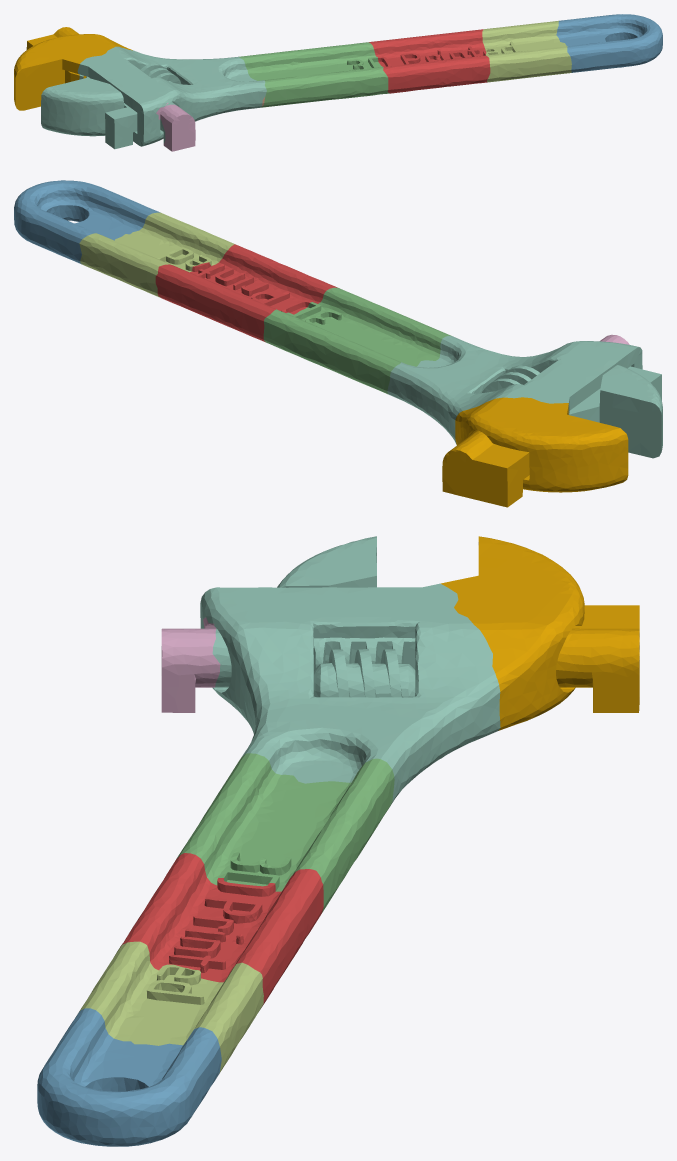
Rendered from fractured_57_8pcs.glb.
The picture shows the model from 3 angles, top to bottom: view 1: azimuth 30°, elevation 25°; view 2: azimuth 150°, elevation 25°; view 3: azimuth 270°, elevation 25°; orthographic projection. The views are drawn at different scales.
Parts seen in each view (by area): view 1: piece_4.obj, piece_3.obj, piece_1.obj, piece_2.obj, piece_0.obj, piece_5.obj, piece_6.obj; view 2: piece_4.obj, piece_0.obj, piece_3.obj, piece_1.obj, piece_2.obj, piece_5.obj; view 3: piece_4.obj, piece_0.obj, piece_3.obj, piece_2.obj, piece_1.obj, piece_5.obj, piece_6.obj.
Boxes of the visible parts, x1,y1,x2,y2 form: piece_4.obj: (41, 46, 266, 149); piece_3.obj: (239, 42, 389, 107); piece_1.obj: (369, 29, 490, 93); piece_2.obj: (556, 14, 662, 72); piece_0.obj: (14, 27, 132, 110); piece_5.obj: (482, 20, 571, 82); piece_6.obj: (156, 103, 195, 151); piece_4.obj: (387, 335, 662, 458); piece_0.obj: (442, 397, 628, 507); piece_3.obj: (263, 287, 451, 394); piece_1.obj: (155, 244, 337, 342); piece_2.obj: (14, 180, 160, 264); piece_5.obj: (79, 212, 234, 297); piece_4.obj: (200, 536, 500, 805); piece_0.obj: (441, 536, 639, 730); piece_3.obj: (176, 753, 394, 912); piece_2.obj: (37, 1008, 221, 1146); piece_1.obj: (120, 853, 323, 1007); piece_5.obj: (78, 941, 263, 1073); piece_6.obj: (161, 617, 220, 712).
Size of the model in its own units: 1 by 0.0733 by 0.473.
